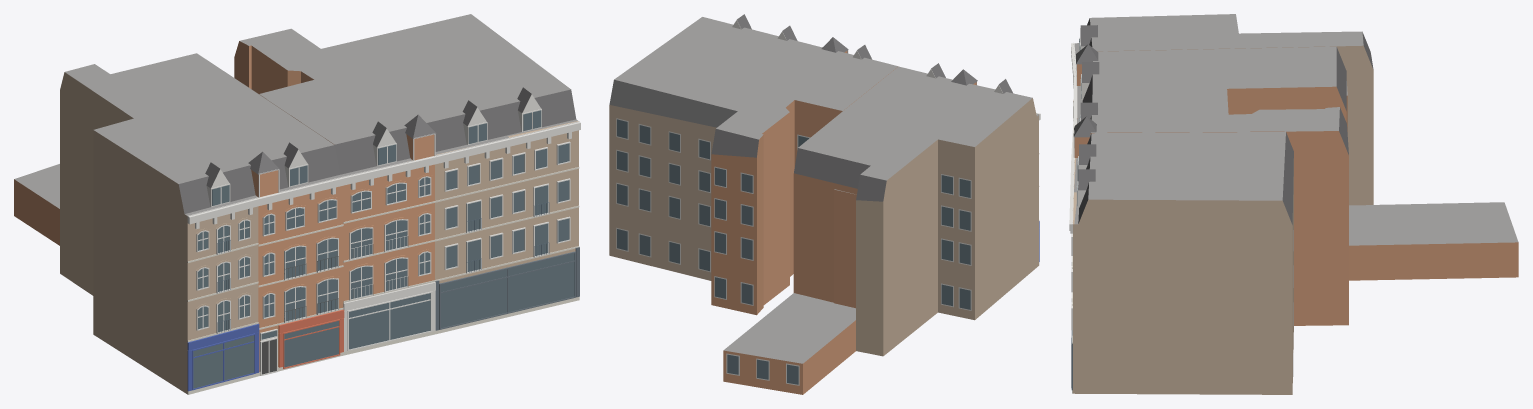
Rendered from chunk-face-bilder-166802-235892.glb.
3 renders of one model, left to right at view 1: azimuth 30°, elevation 25°; view 2: azimuth 150°, elevation 25°; view 3: azimuth 270°, elevation 25°, orthographic. The views are drawn at different scales.
Parts seen in each view (by area): view 1: face-bilder-166802-235892; view 2: face-bilder-166802-235892; view 3: face-bilder-166802-235892.
Boxes of the visible parts, x1,y1,x2,y2 form: face-bilder-166802-235892: (14,14,580,394); face-bilder-166802-235892: (609,14,1040,394); face-bilder-166802-235892: (1069,14,1518,394).
Bounding box in the file's own units: 33.16 × 17.14 × 33.75.
